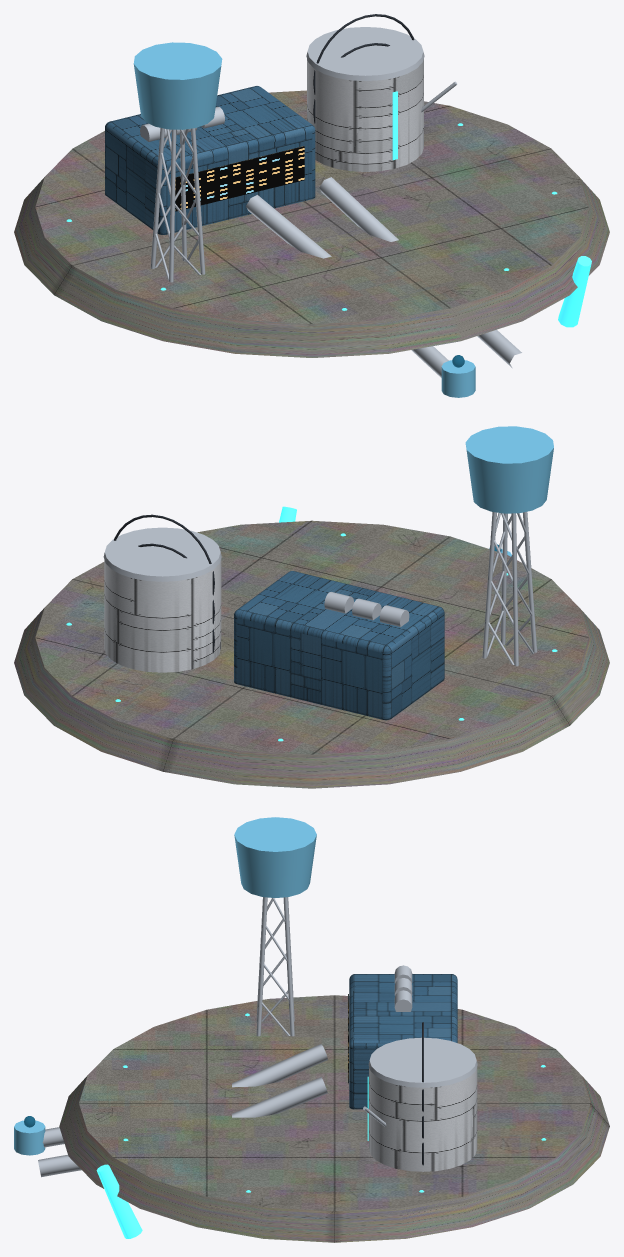
File: desal-T1.glb
3 views of the same model, one above another, from view 1: azimuth 30°, elevation 25°; view 2: azimuth 150°, elevation 25°; view 3: azimuth 270°, elevation 25° (orthographic). The views are drawn at different scales.
Parts seen in each view (by area): view 1: object 1, object 11, object 16, object 55, object 17, object 12, object 57, object 56, object 60, object 58; view 2: object 1, object 11, object 16, object 55, object 17, object 13, object 14, object 15; view 3: object 1, object 16, object 11, object 55, object 17, object 57, object 56, object 60, object 58.
Part boxes in pixels (x1,y1,x2,y2): object 1: (14, 90, 609, 357); object 11: (105, 86, 315, 234); object 16: (307, 59, 423, 171); object 55: (133, 42, 222, 129); object 17: (306, 27, 424, 80); object 12: (175, 146, 304, 211); object 57: (319, 177, 521, 368); object 56: (246, 195, 448, 377); object 60: (558, 256, 591, 327); object 58: (441, 360, 475, 397); object 1: (14, 520, 609, 788); object 11: (234, 571, 444, 720); object 16: (104, 559, 221, 672); object 55: (465, 426, 553, 513); object 17: (103, 527, 221, 581); object 13: (379, 605, 409, 626); object 14: (352, 598, 381, 620); object 15: (324, 592, 353, 613); object 1: (59, 995, 609, 1242); object 16: (369, 1067, 477, 1171); object 11: (349, 974, 457, 1109); object 55: (234, 817, 316, 897); object 17: (368, 1037, 477, 1087); object 57: (38, 1077, 327, 1177); object 56: (42, 1044, 327, 1147); object 60: (96, 1164, 142, 1238); object 58: (14, 1120, 45, 1155).
Bounding box in the file's own units: 5.6 × 2.93 × 6.06.
Materials: 10 (5 with a texture image).
